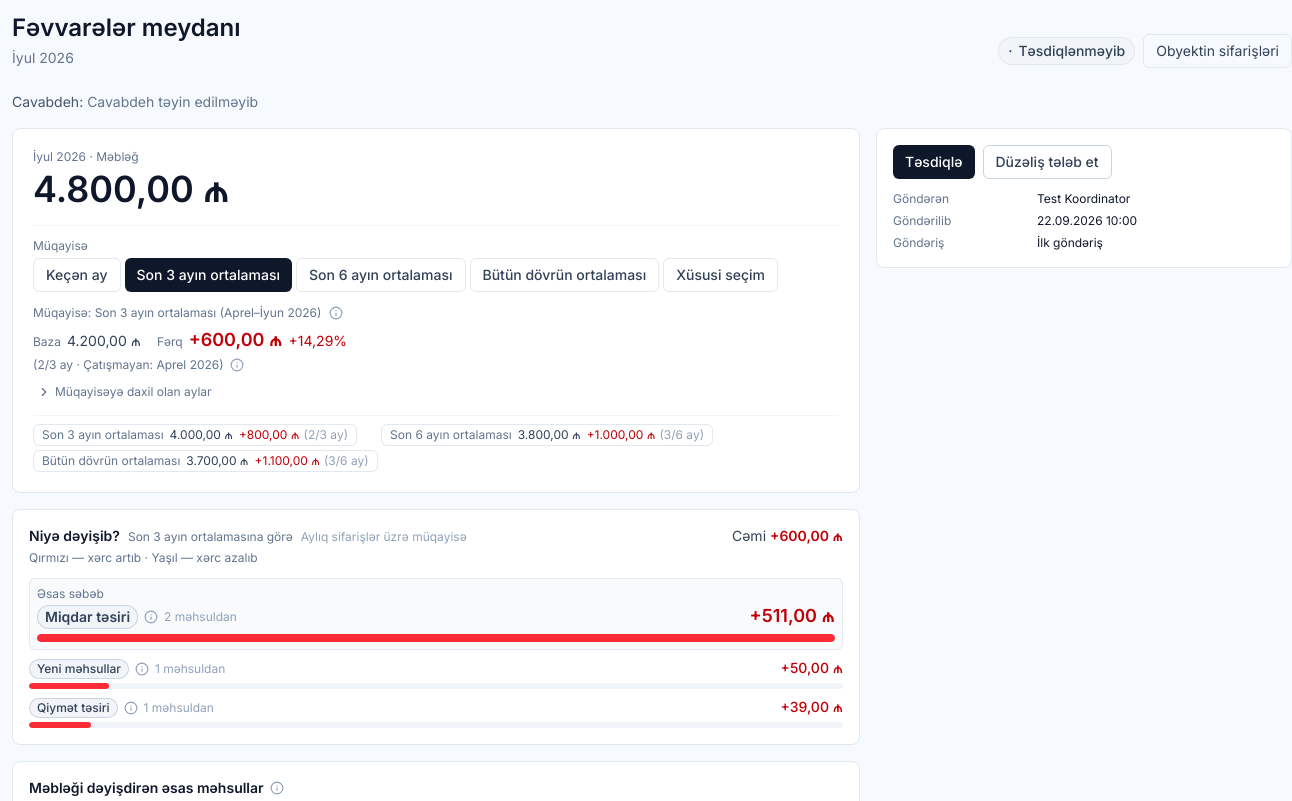
Test case: what the window is made of › lists every month of the window on request, each order opened with the basis
The width and height of the screenshot is (1292, 801).
Expected: the element named "Sifarişin məbləği və müqayisəsi" is shown, [12,128,860,493]
Expected: the text "Aprel 2026 — sifariş yoxdur" is not shown
Click the button "Müqayisəyə daxil olan aylar" at coordinates (124, 392), box [33,382,216,402]
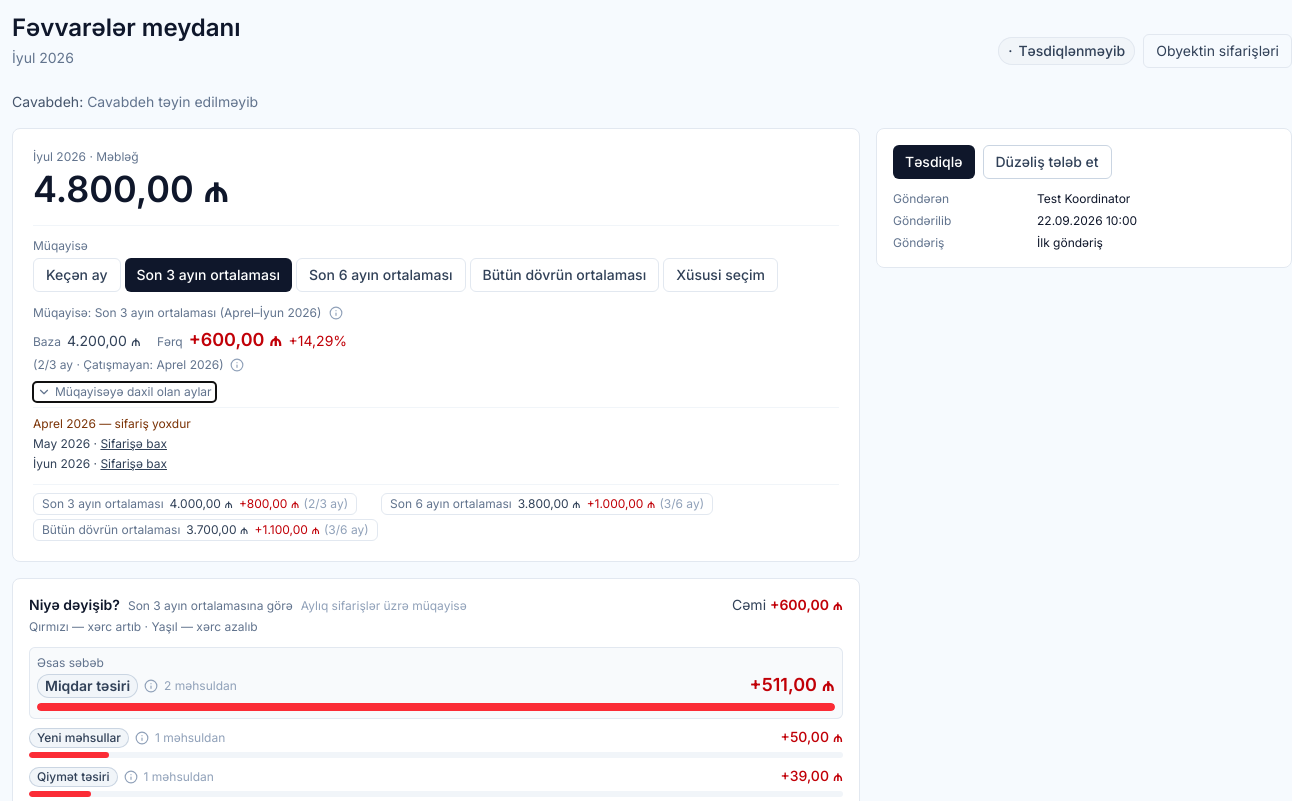
Expected: the button "Müqayisəyə daxil olan aylar" is expanded, [33,382,216,402]
Expected: the list items read "Aprel 2026 — sifariş yoxdur", "May 2026 · Sifarişə bax", "İyun 2026 · Sifarişə bax", in this order, [33,416,191,431]; [33,436,167,451]; [33,456,167,471]
